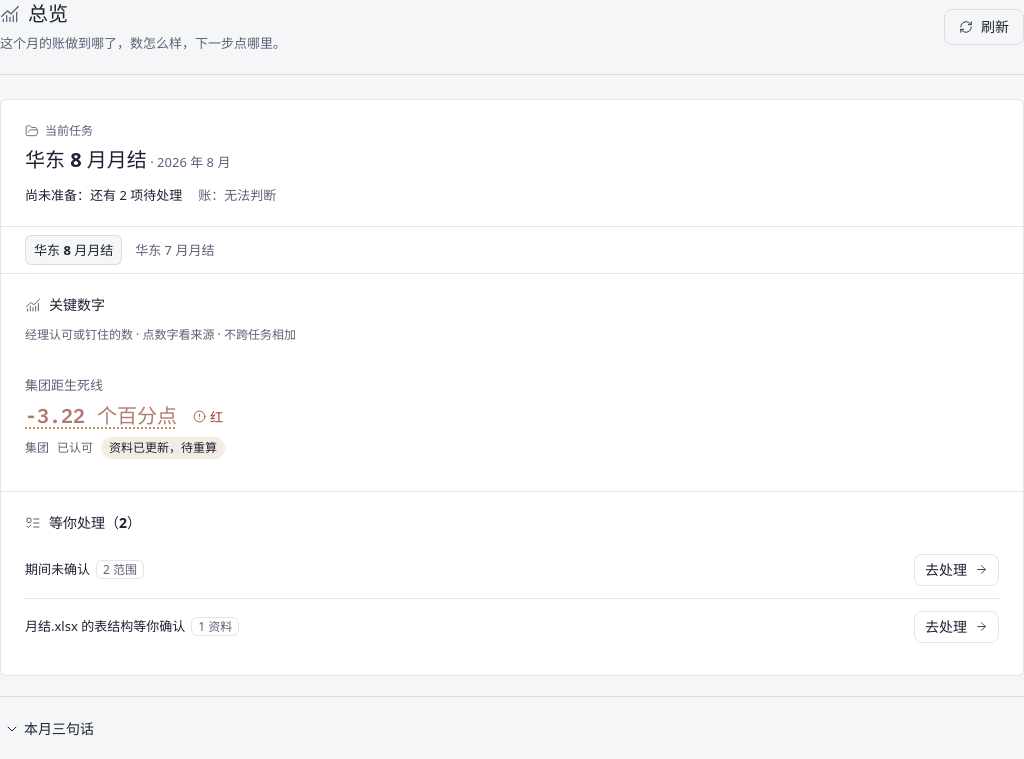
Test: 总览 reads the current task's own results › keeps an accepted figure marked as waiting for recompute when its source was replaced, and still opens that source
Expected: the text "已认可" is shown, [57,436,93,458]
Expected: the text "资料已更新，待重算" is shown, [101,436,225,458]
Click the button "-3.22 个百分点" at coordinates (101, 416), box [25,402,177,430]
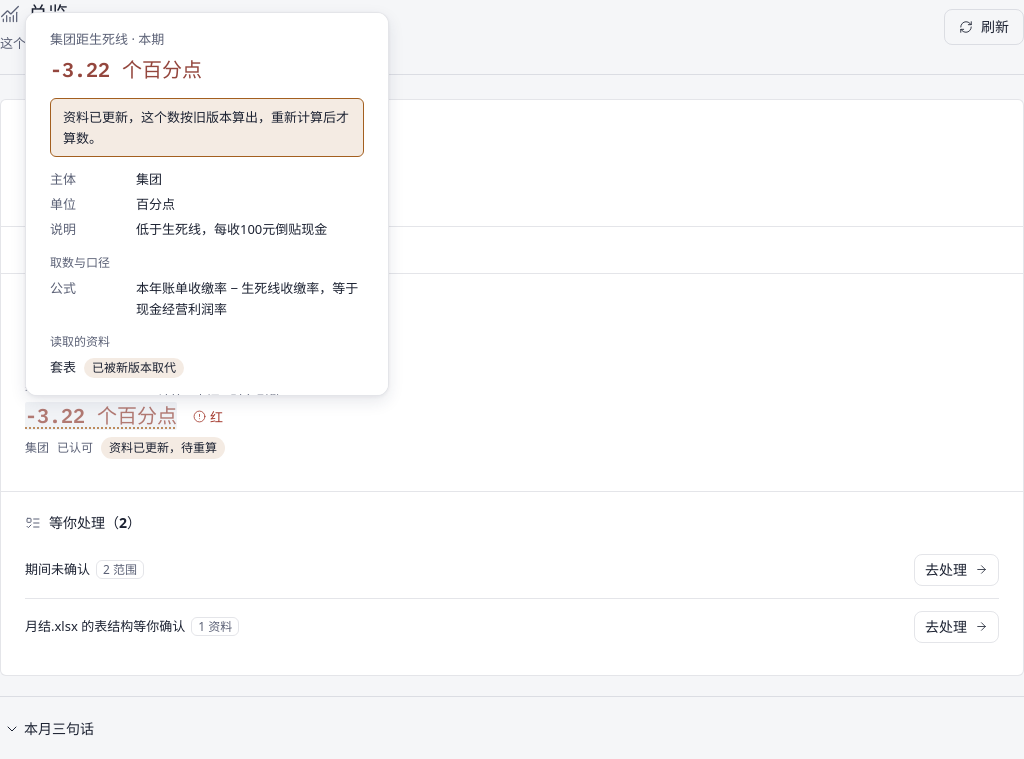
Expected: the text "资料已更新，这个数按旧版本算出，重新计算后才算数。" is shown, [50,98,364,157]
Expected: the text "套表" is shown, [50,357,76,378]
Expected: the text "已被新版本取代" is shown, [84,358,184,378]
